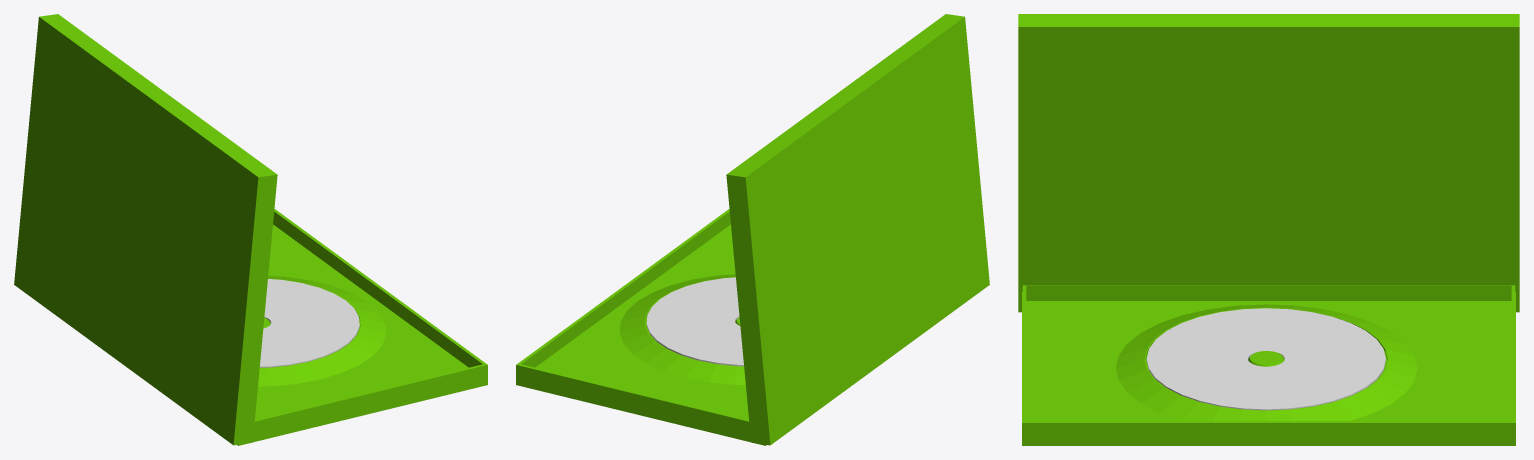
File: Xbox360-Case.fbx
3 renders of one model, left to right at view 1: azimuth 30°, elevation 25°; view 2: azimuth 150°, elevation 25°; view 3: azimuth 270°, elevation 25°, orthographic. The views are drawn at different scales.
Parts seen in each view (by area): view 1: Cube.018, Cube.019, Cylinder.017, Cylinder.018; view 2: Cube.018, Cube.019, Cylinder.017, Cylinder.018; view 3: Cube.018, Cube.019, Cylinder.017, Cylinder.018.
Part boxes in pixels (box(x1,y1,x2,y2)): Cube.018: box(14, 14, 277, 445); Cube.019: box(237, 209, 487, 445); Cylinder.017: box(259, 279, 359, 367); Cylinder.018: box(258, 275, 386, 386); Cube.018: box(726, 14, 989, 445); Cube.019: box(516, 209, 766, 445); Cylinder.017: box(646, 277, 743, 366); Cylinder.018: box(619, 274, 745, 384); Cube.018: box(1018, 14, 1519, 312); Cube.019: box(1022, 285, 1515, 445); Cylinder.017: box(1146, 308, 1385, 410); Cylinder.018: box(1115, 304, 1417, 420).
Bounding box in the file's own units: 130 × 129 × 193.
